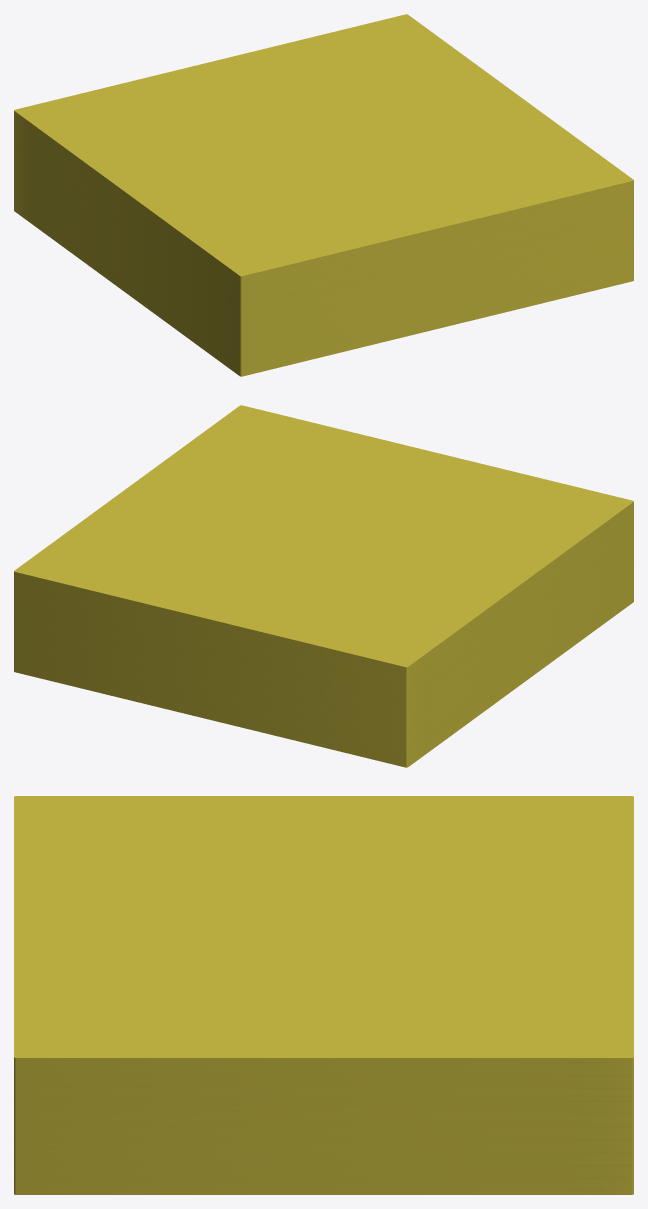
3 views of the same model, one above another, from view 1: azimuth 30°, elevation 25°; view 2: azimuth 150°, elevation 25°; view 3: azimuth 270°, elevation 25° (orthographic). The views are drawn at different scales.
Parts seen in each view (by area): view 1: part_000_Note_sheet_200, part_007_Note_sheet_193, part_009_Note_sheet_191, part_011_Note_sheet_189, part_013_Note_sheet_187, part_003_Note_sheet_197, part_004_Note_sheet_196, part_006_Note_sheet_194, part_017_Note_sheet_183, part_033_Note_sheet_167, part_037_Note_sheet_163, part_040_Note_sheet_160 (+188 smaller); view 2: part_000_Note_sheet_200, part_199_Note_sheet_001, part_044_Note_sheet_156, part_013_Note_sheet_187, part_034_Note_sheet_166, part_037_Note_sheet_163, part_042_Note_sheet_158, part_046_Note_sheet_154, part_143_Note_sheet_057, part_145_Note_sheet_055, part_147_Note_sheet_053, part_003_Note_sheet_197 (+188 smaller); view 3: part_000_Note_sheet_200, part_001_Note_sheet_199, part_004_Note_sheet_196, part_011_Note_sheet_189, part_014_Note_sheet_186, part_017_Note_sheet_183, part_020_Note_sheet_180, part_023_Note_sheet_177, part_030_Note_sheet_170, part_033_Note_sheet_167, part_036_Note_sheet_164, part_039_Note_sheet_161 (+188 smaller).
Boxes of the visible parts, x1,y1,x2,y2 form: part_000_Note_sheet_200: (14,14,633,276); part_007_Note_sheet_193: (14,114,633,280); part_009_Note_sheet_191: (14,115,633,281); part_011_Note_sheet_189: (14,116,633,282); part_013_Note_sheet_187: (14,117,633,283); part_003_Note_sheet_197: (14,112,633,278); part_004_Note_sheet_196: (14,113,633,278); part_006_Note_sheet_194: (14,114,633,279); part_017_Note_sheet_183: (14,119,633,285); part_033_Note_sheet_167: (14,127,633,293); part_037_Note_sheet_163: (14,129,633,295); part_040_Note_sheet_160: (14,131,633,296); part_000_Note_sheet_200: (14,405,633,667); part_199_Note_sheet_001: (14,602,633,767); part_044_Note_sheet_156: (14,524,633,689); part_013_Note_sheet_187: (14,508,633,674); part_034_Note_sheet_166: (14,519,633,684); part_037_Note_sheet_163: (14,520,633,686); part_042_Note_sheet_158: (14,523,633,688); part_046_Note_sheet_154: (14,525,633,690); part_143_Note_sheet_057: (14,573,633,739); part_145_Note_sheet_055: (14,574,633,740); part_147_Note_sheet_053: (14,575,633,741); part_003_Note_sheet_197: (14,503,633,669); part_000_Note_sheet_200: (14,796,633,1058); part_001_Note_sheet_199: (14,1058,633,1059); part_004_Note_sheet_196: (14,1060,633,1061); part_011_Note_sheet_189: (14,1065,633,1066); part_014_Note_sheet_186: (14,1067,633,1068); part_017_Note_sheet_183: (14,1069,633,1070); part_020_Note_sheet_180: (14,1071,633,1072); part_023_Note_sheet_177: (14,1073,633,1074); part_030_Note_sheet_170: (14,1078,633,1079); part_033_Note_sheet_167: (14,1080,633,1081); part_036_Note_sheet_164: (14,1082,633,1083); part_039_Note_sheet_161: (14,1084,633,1085).
Size of the model in its own units: 0.078 by 0.019 by 0.078.
